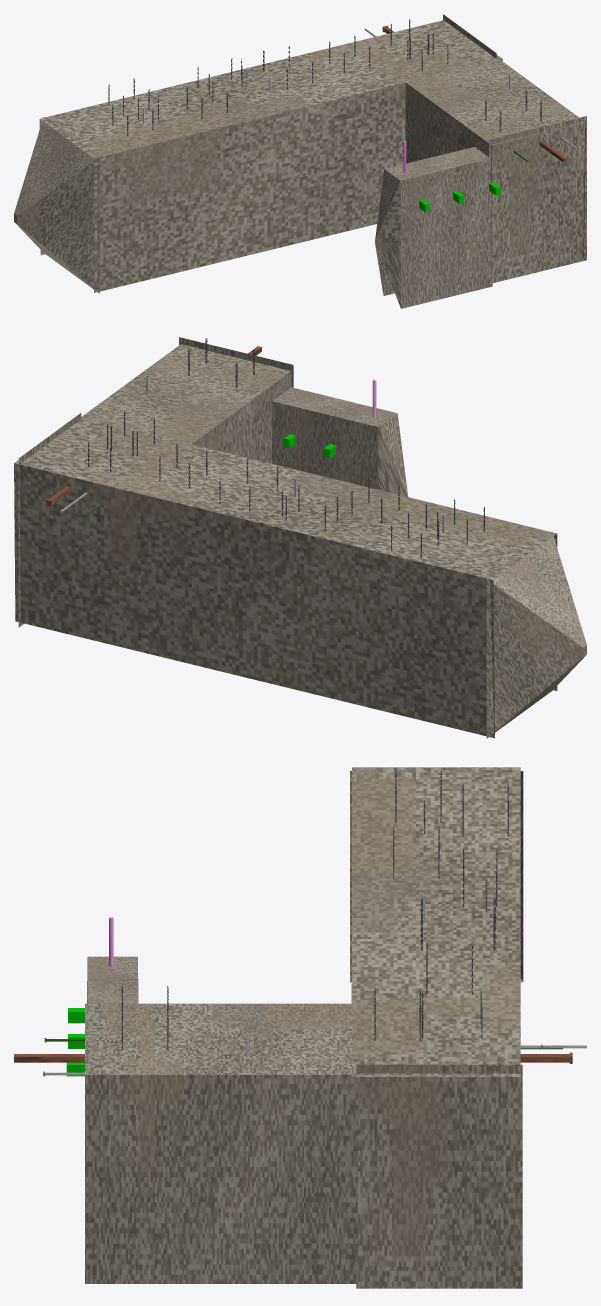
The model's file is level1.obj.
The picture shows the model from 3 angles, top to bottom: view 1: azimuth 30°, elevation 25°; view 2: azimuth 150°, elevation 25°; view 3: azimuth 270°, elevation 25°; orthographic projection. The views are drawn at different scales.
Parts seen in each view (by area): view 1: Plane.001, Plane.274_Plane.249, Plane.286_Plane.019, Plane.149_Plane.008, Plane.285_Plane.018; view 2: Plane.001, Plane.149_Plane.008, Plane.285_Plane.018, Plane.274_Plane.249, Plane.286_Plane.019, Plane.166_Plane.017; view 3: Plane.149_Plane.008, Plane.001, Plane.166_Plane.017, Plane.274_Plane.249, Plane.285_Plane.018.
Boxes of the visible parts, <box> form: Plane.001: <box>39,20,502,292</box>; Plane.274_Plane.249: <box>375,147,492,308</box>; Plane.286_Plane.019: <box>489,116,586,282</box>; Plane.149_Plane.008: <box>405,58,585,278</box>; Plane.285_Plane.018: <box>14,117,99,293</box>; Plane.001: <box>14,417,557,738</box>; Plane.149_Plane.008: <box>81,344,291,463</box>; Plane.285_Plane.018: <box>486,531,586,738</box>; Plane.274_Plane.249: <box>272,387,408,496</box>; Plane.286_Plane.019: <box>179,337,293,387</box>; Plane.166_Plane.017: <box>18,413,81,627</box>; Plane.149_Plane.008: <box>85,1003,357,1283</box>; Plane.001: <box>351,767,520,1269</box>; Plane.166_Plane.017: <box>356,1064,522,1288</box>; Plane.274_Plane.249: <box>87,956,138,1003</box>; Plane.285_Plane.018: <box>350,771,523,982</box>.
Size of the model in its own units: 157 by 53.12 by 109.
